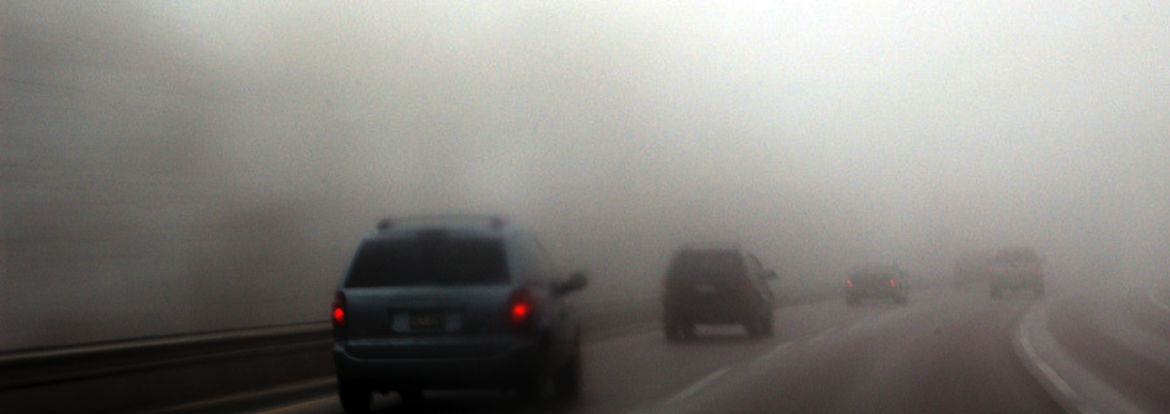car: (328, 216, 593, 413), (662, 246, 775, 338), (989, 243, 1049, 297), (841, 261, 907, 305)
